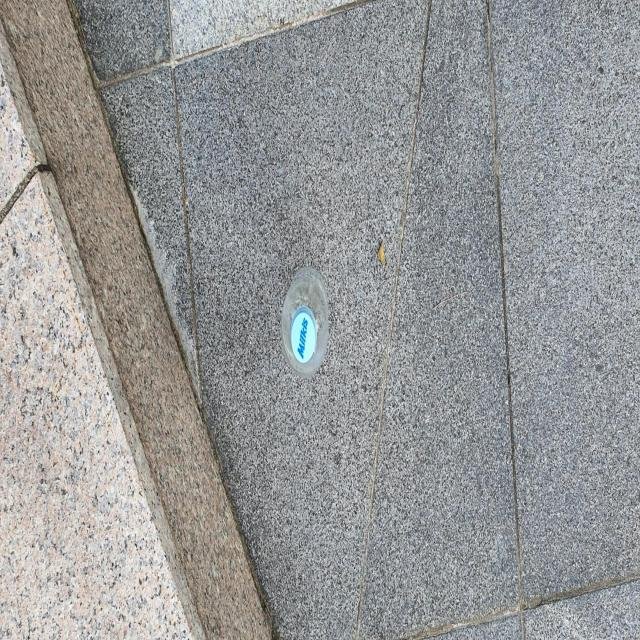plastic: (282, 266, 329, 375)
